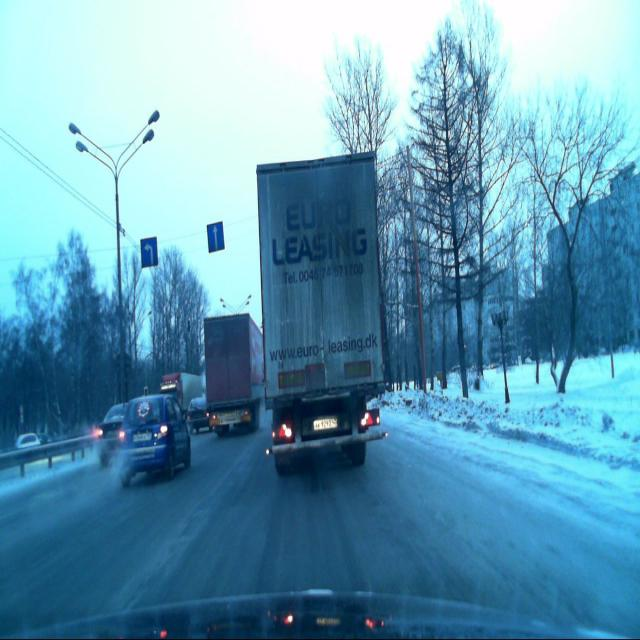road sign: (141, 236, 158, 269), (207, 221, 225, 252)
